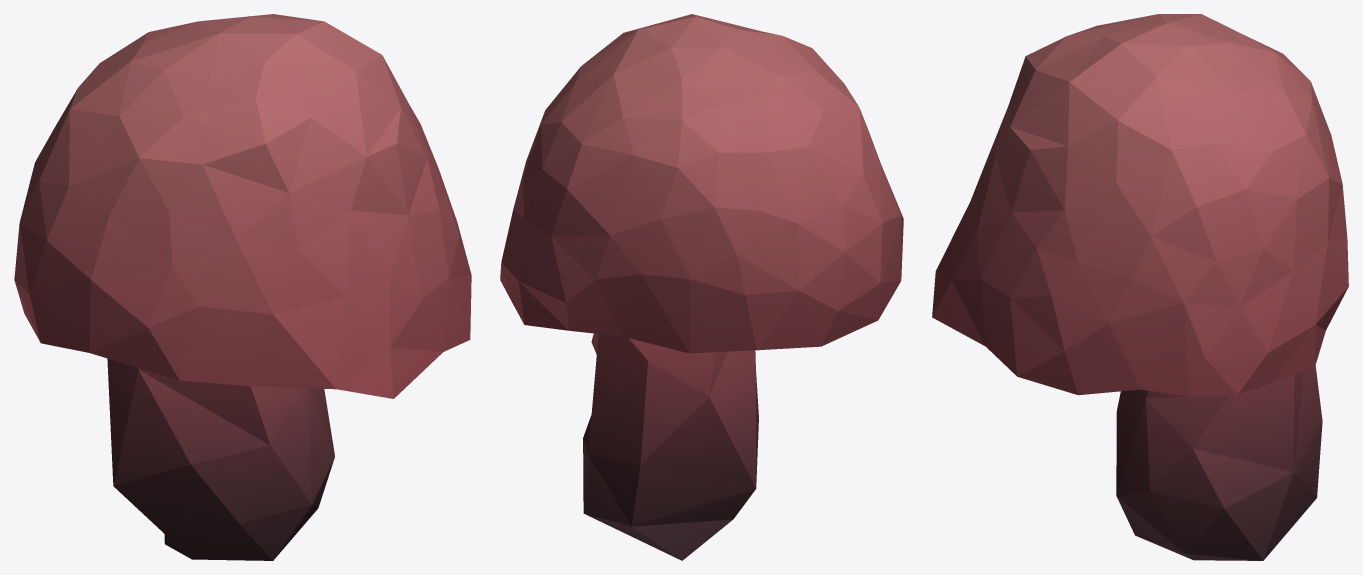
File: Projectile_FBX.fbx
3 renders of one model, left to right at view 1: azimuth 30°, elevation 25°; view 2: azimuth 150°, elevation 25°; view 3: azimuth 270°, elevation 25°, orthographic. The views are drawn at different scales.
Parts seen in each view (by area): view 1: Mushroom_01:Top_19; view 2: Mushroom_01:Top_19; view 3: Mushroom_01:Top_19.
Boxes of the visible parts, x1,y1,x2,y2 form: Mushroom_01:Top_19: [14, 14, 471, 560]; Mushroom_01:Top_19: [500, 14, 903, 560]; Mushroom_01:Top_19: [932, 14, 1348, 560].
Size of the model in its own units: 7.26 by 9.39 by 6.81.
